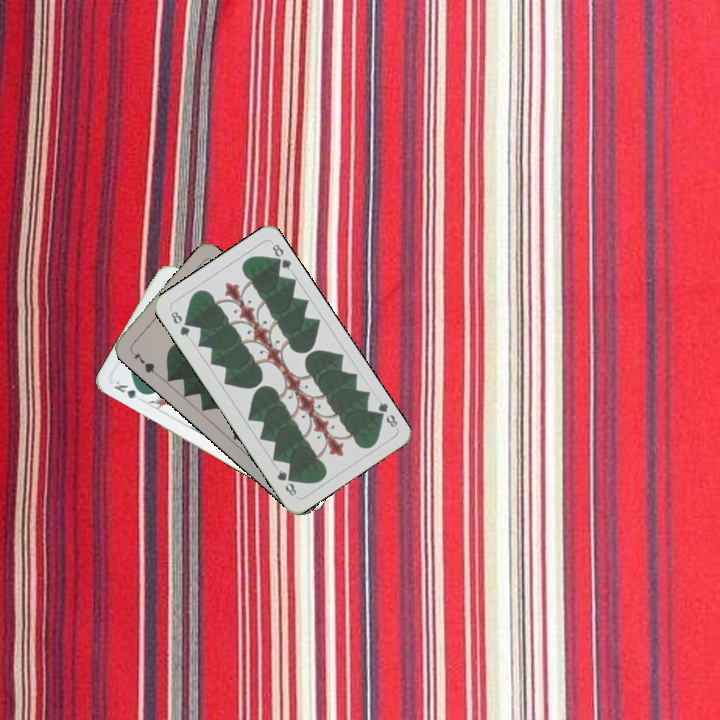G7: (127, 346, 160, 377)
G8: (371, 397, 400, 430), (167, 307, 193, 340)
GK: (109, 376, 149, 401)
